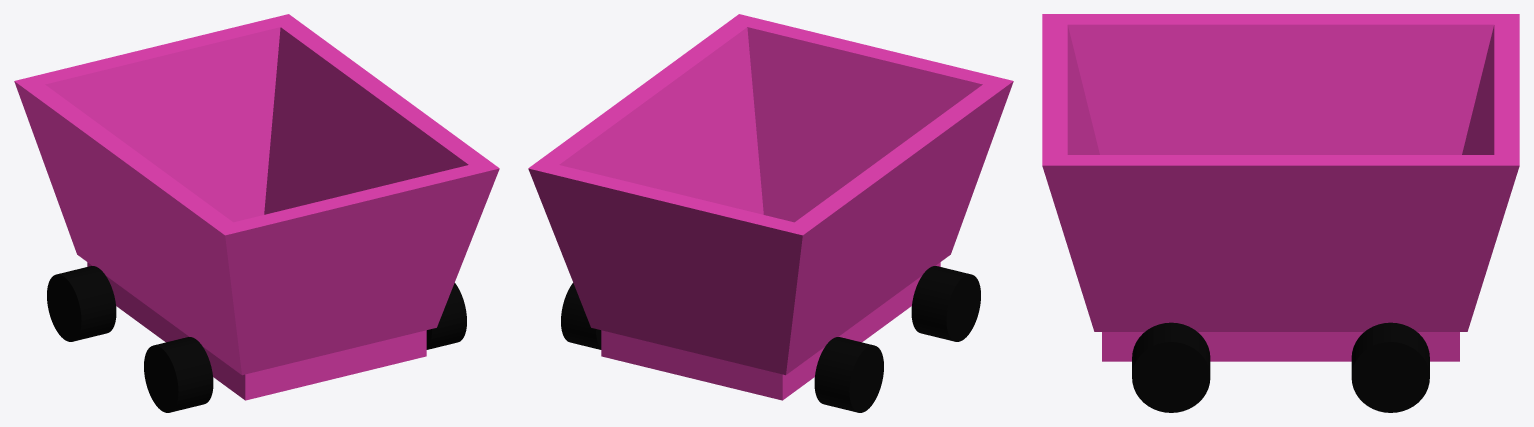
Rendered from cart-pink.glb.
3 views of the same model, side by side, from view 1: azimuth 30°, elevation 25°; view 2: azimuth 150°, elevation 25°; view 3: azimuth 270°, elevation 25° (orthographic). The views are drawn at different scales.
Parts seen in each view (by area): view 1: cart_mesh_1, wheel_BR, wheel_FR, wheel_FL; view 2: cart_mesh_1, wheel_FR, wheel_BR, wheel_BL; view 3: cart_mesh_1, wheel_BL, wheel_FL.
Boxes of the visible parts, x1,y1,x2,y2 form: cart_mesh_1: [14, 14, 499, 400]; wheel_BR: [47, 266, 116, 341]; wheel_FR: [144, 337, 213, 412]; wheel_FL: [426, 283, 466, 349]; cart_mesh_1: [528, 14, 1013, 400]; wheel_FR: [911, 266, 980, 341]; wheel_BR: [814, 337, 883, 412]; wheel_BL: [561, 283, 601, 349]; cart_mesh_1: [1042, 14, 1519, 361]; wheel_BL: [1351, 322, 1429, 412]; wheel_FL: [1132, 322, 1210, 412].
Bounding box in the file's own units: 2.21 × 1.58 × 2.8.
